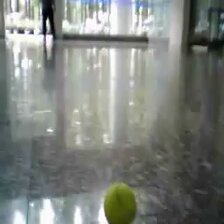tennis: (103, 182, 136, 224)
